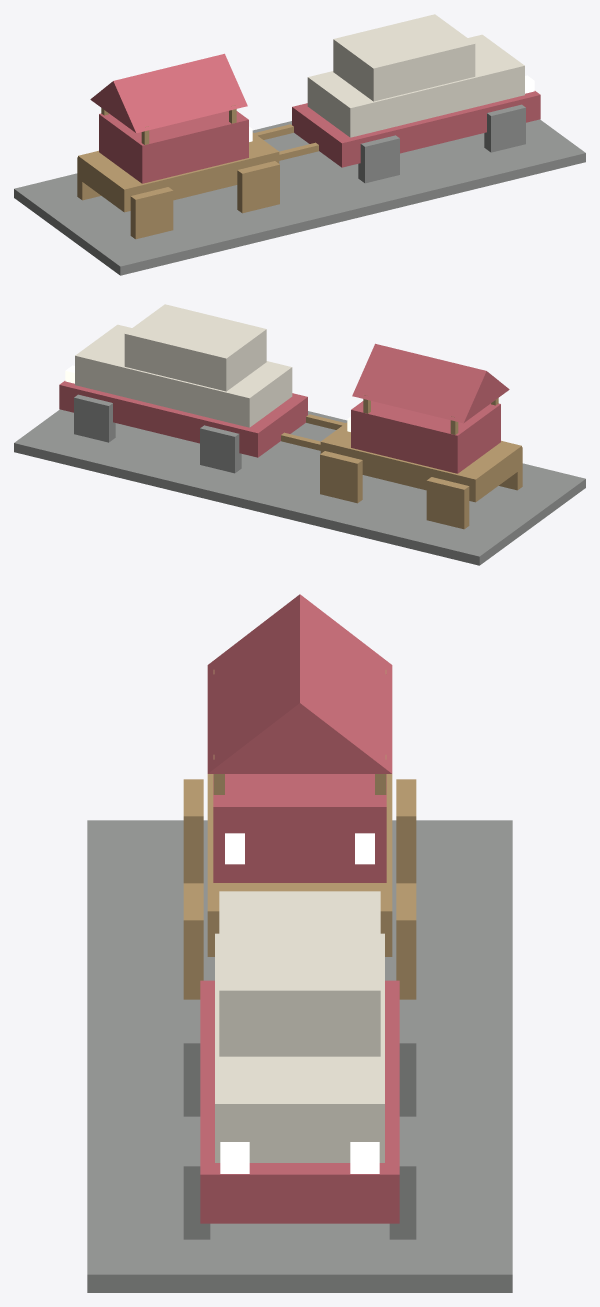
Rendered from prop_13_dalat_horse_carriage_and_vintage_car.glb.
3 views of the same model, one above another, from view 1: azimuth 30°, elevation 25°; view 2: azimuth 150°, elevation 25°; view 3: azimuth 270°, elevation 25° (orthographic). The views are drawn at different scales.
Parts seen in each view (by area): view 1: prop_13_dalat_horse_carriage_and_vintage_car; view 2: prop_13_dalat_horse_carriage_and_vintage_car; view 3: prop_13_dalat_horse_carriage_and_vintage_car.
Boxes of the visible parts, box(x1,y1,x2,y2) form: prop_13_dalat_horse_carriage_and_vintage_car: box(14, 14, 585, 275); prop_13_dalat_horse_carriage_and_vintage_car: box(14, 304, 585, 565); prop_13_dalat_horse_carriage_and_vintage_car: box(87, 594, 512, 1292).
Size of the model in its own units: 9.6 by 2.85 by 3.8.
